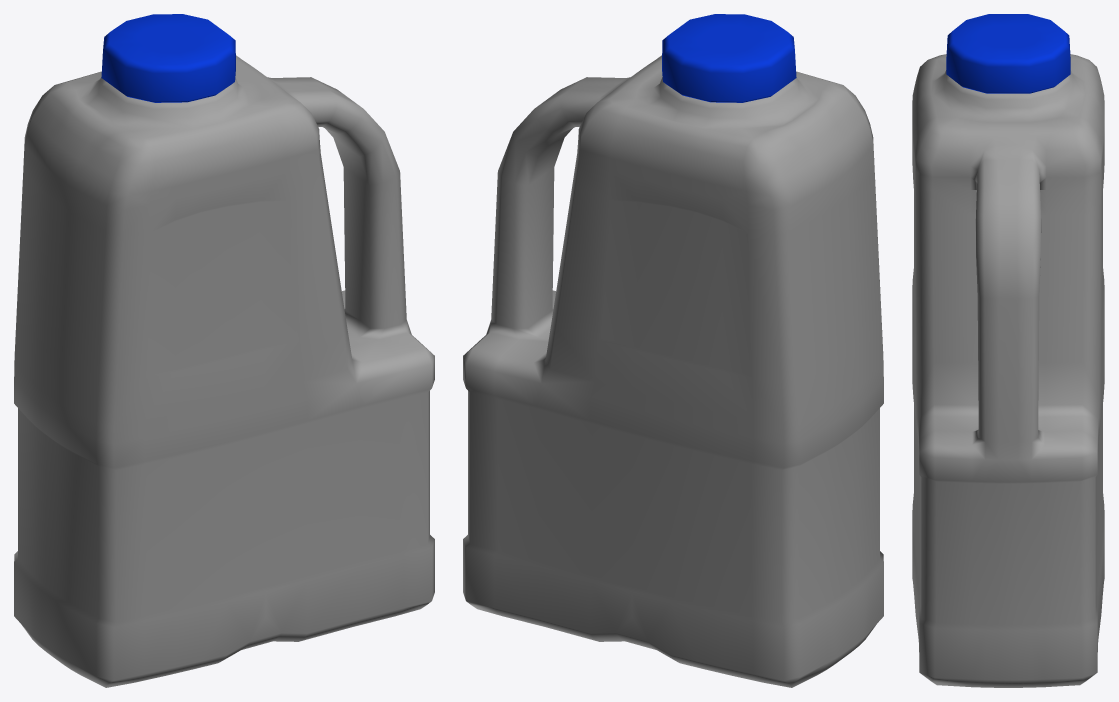
3 views of the same model, side by side, from view 1: azimuth 30°, elevation 25°; view 2: azimuth 150°, elevation 25°; view 3: azimuth 270°, elevation 25° (orthographic). The views are drawn at different scales.
Visible parts, largest first — view 1: SM_Milk; view 2: SM_Milk; view 3: SM_Milk.
Boxes of the visible parts, x1,y1,x2,y2 form: SM_Milk: [14, 14, 434, 687]; SM_Milk: [463, 14, 883, 687]; SM_Milk: [912, 14, 1104, 687].
Bounding box in the file's own units: 1.24 × 2 × 0.6285.
